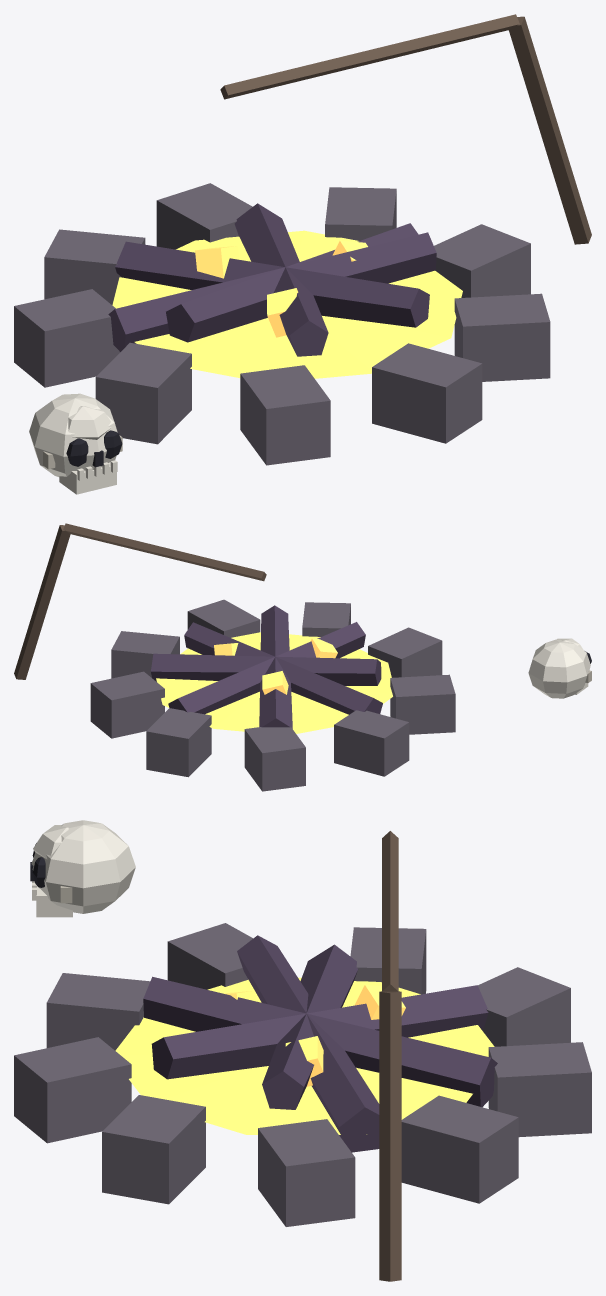
The model's file is campfire.glb.
The picture shows the model from 3 angles, top to bottom: view 1: azimuth 30°, elevation 25°; view 2: azimuth 150°, elevation 25°; view 3: azimuth 270°, elevation 25°; orthographic projection. The views are drawn at different scales.
Visible parts, largest first — view 1: campfire; view 2: campfire; view 3: campfire.
Part boxes in pixels (bbox=[...]): campfire: bbox=[14, 14, 591, 494]; campfire: bbox=[14, 523, 591, 791]; campfire: bbox=[14, 820, 591, 1281].
Size of the model in its own units: 3.12 by 1.04 by 2.07.
